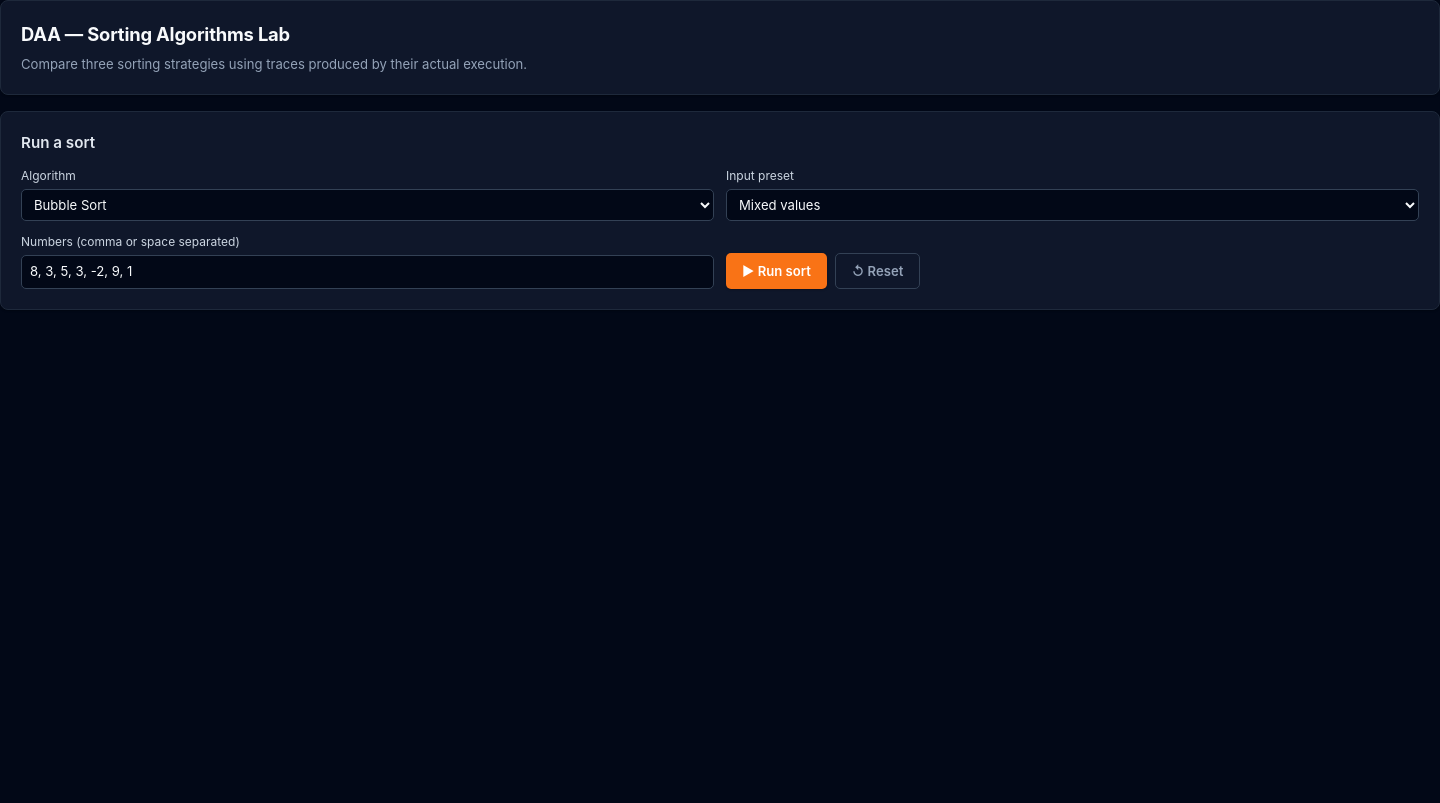
Test case: SortingLab › runs bubble sort and shows result and operation evidence
Select "Bubble Sort" in the dropdown named "Sorting algorithm". click: [368, 205]
box: [21, 189, 714, 221]
Replace the text in the field named "Numeric input" with "3, 1, 2, 1". click: [368, 272]
box: [21, 255, 714, 289]
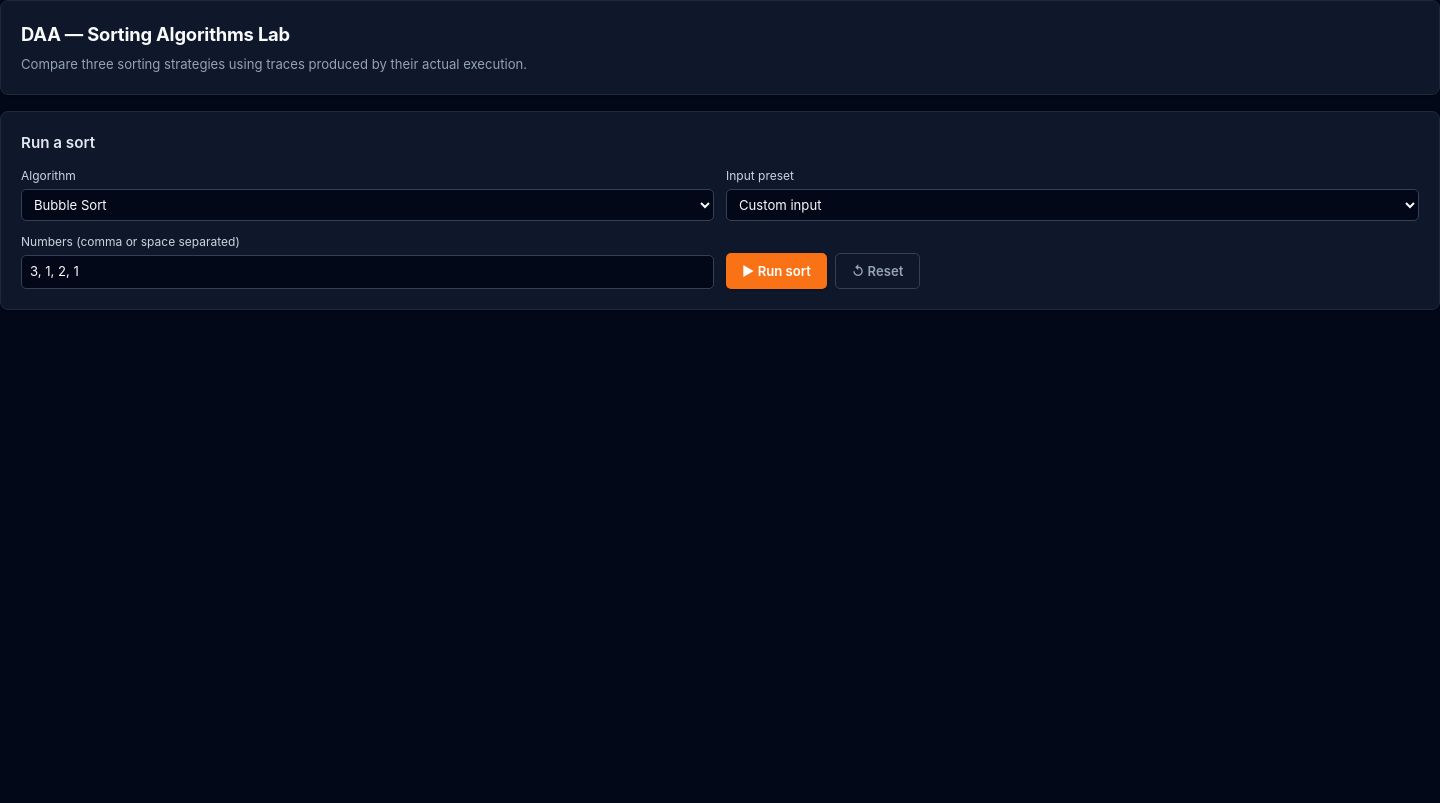
Click the button "▶ Run sort". click: [776, 271]
box: [726, 253, 827, 289]
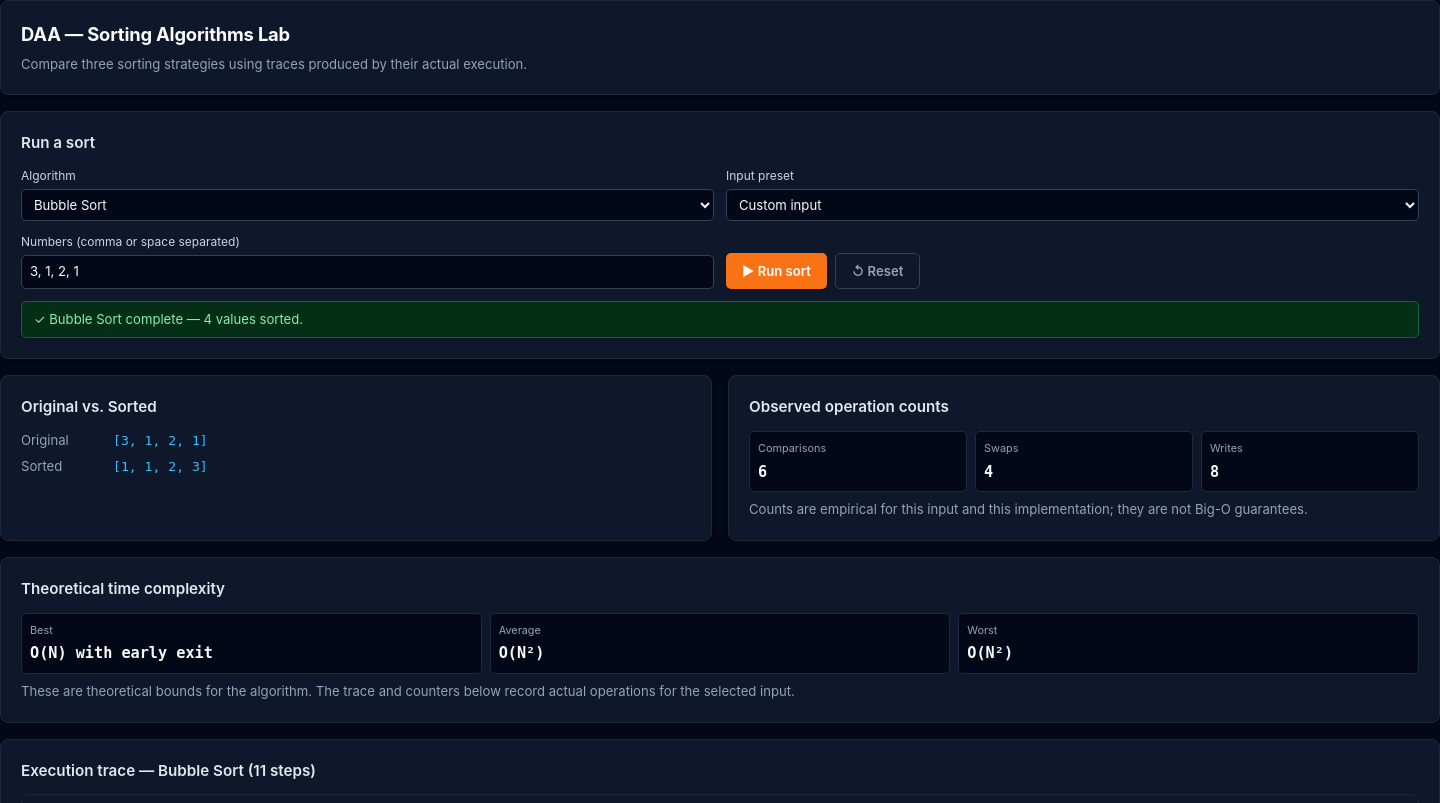
Expected: the message shows "Bubble Sort complete", [21, 301, 1419, 338]
Expected: the element "Original vs. Sorted" shows "[3, 1, 2, 1]", [113, 433, 208, 448]
Expected: the element "Original vs. Sorted" shows "[1, 1, 2, 3]", [113, 459, 208, 474]
